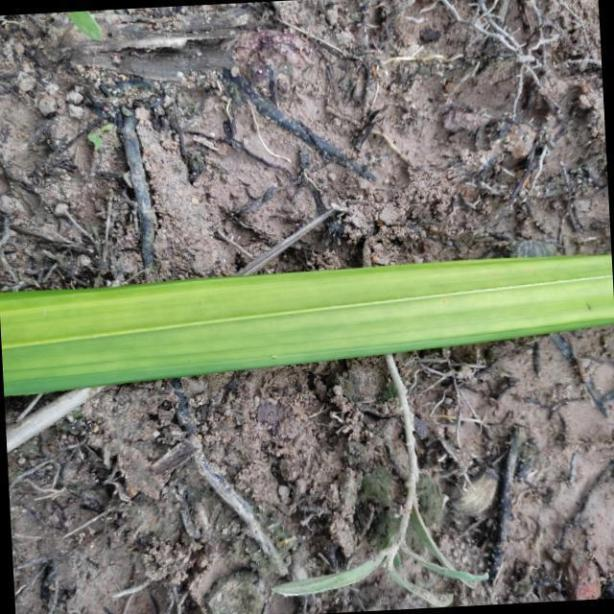nitrogen: (0, 254, 614, 400)
